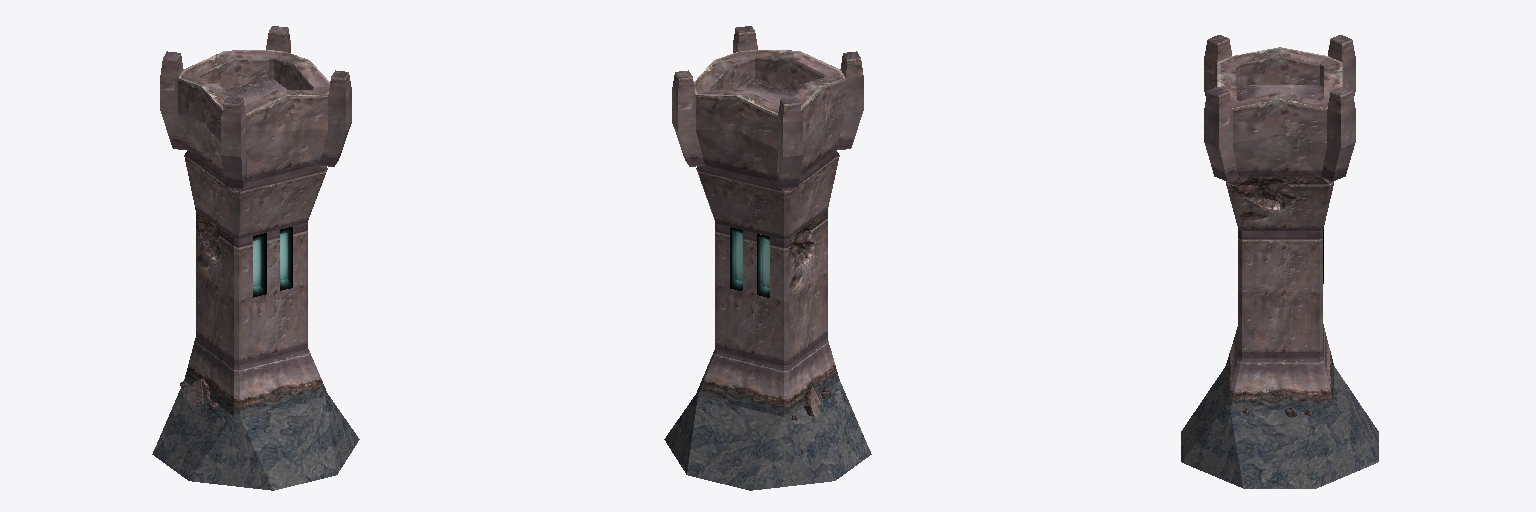
The picture shows the model from 3 angles: view 1: azimuth 30°, elevation 25°; view 2: azimuth 150°, elevation 25°; view 3: azimuth 270°, elevation 25°; orthographic projection.
Visible parts, largest first — view 1: Node 0, Node 2; view 2: Node 0, Node 2; view 3: Node 0.
Part boxes in pixels (bbox=[...]): Node 0: bbox=[152, 26, 359, 490]; Node 2: bbox=[253, 227, 292, 297]; Node 0: bbox=[664, 26, 871, 490]; Node 2: bbox=[730, 227, 769, 297]; Node 0: bbox=[1181, 35, 1378, 488].
Size of the model in its own units: 11.95 by 25.51 by 11.95.
Materials: 6 (6 with a texture image).